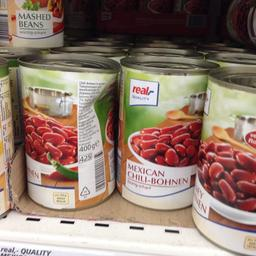beans: (14, 52, 116, 214), (119, 55, 202, 214), (198, 66, 255, 254)
